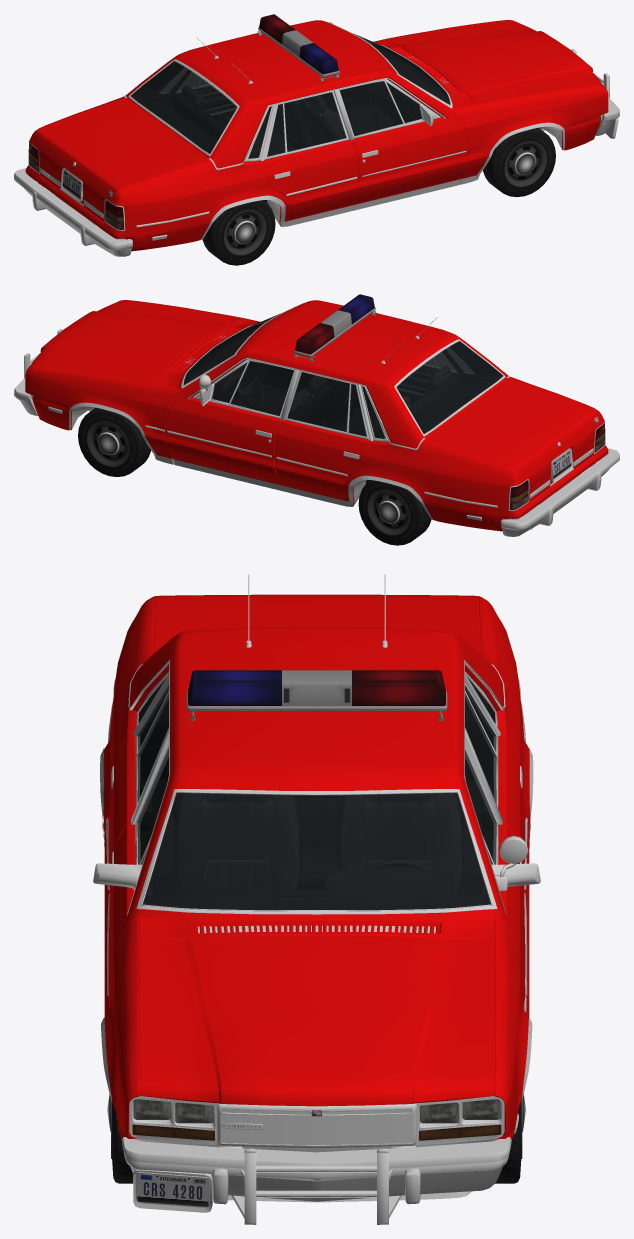
File: copcrsr_hp.fbx
3 renders of one model, top to bottom at view 1: azimuth 30°, elevation 25°; view 2: azimuth 150°, elevation 25°; view 3: azimuth 270°, elevation 25°, orthographic. The views are drawn at different scales.
Parts seen in each view (by area): view 1: Fairheaven_LT80_body, Fairheaven_LT80_interior, Fairheaven_LT80_trunk_door, Fairheaven_LT80_Hood, Fairheaven_LT80_Bottom, Fairheaven_LT80_Rear_Glass, Fairheaven_LT80_BodyGlass, Fairheaven_LT80_WheelStamp_FR, Fairheaven_LT80_WheelStamp_RR, Fairheaven_LT80_bumper_rear, Fairheaven_LT80_Glass_Passanger, Fairheaven_LT80_Grand_Trim (+6 smaller); view 2: Fairheaven_LT80_body, Fairheaven_LT80_interior, Fairheaven_LT80_trunk_door, Fairheaven_LT80_Hood, Fairheaven_LT80_Bottom, Fairheaven_LT80_Rear_Glass, Fairheaven_LT80_BodyGlass, Fairheaven_LT80_WheelStamp_FL, Fairheaven_LT80_WheelStamp_RL, Fairheaven_LT80_bumper_rear, Fairheaven_LT80_Glass_Driver, Fairheaven_LT80_Grand_Trim (+6 smaller); view 3: Fairheaven_LT80_body, Fairheaven_LT80_Hood, Fairheaven_LT80_interior, Fairheaven_LT80_Windshield, Fairheaven_LT80_Bottom, Fairheaven_LT80_Bumper_Front, Fairheaven_LT80_trunk_door, Fairheaven_LT80_Lightbar, Fairheaven_LT80_Headlights_Glass, Fairheaven_LT80_Bullbar, Fairheaven_LT80_BodyGlass, Fairheaven_LT80_Headlights (+8 smaller).
Part boxes in pixels (x1=…): Fairheaven_LT80_body: x1=25, y1=20, x2=608, y2=251; Fairheaven_LT80_interior: x1=131, y1=43, x2=449, y2=202; Fairheaven_LT80_trunk_door: x1=32, y1=98, x2=208, y2=221; Fairheaven_LT80_Hood: x1=386, y1=20, x2=603, y2=104; Fairheaven_LT80_Bottom: x1=28, y1=22, x2=561, y2=240; Fairheaven_LT80_Rear_Glass: x1=130, y1=61, x2=237, y2=153; Fairheaven_LT80_BodyGlass: x1=161, y1=68, x2=421, y2=158; Fairheaven_LT80_WheelStamp_FR: x1=483, y1=127, x2=555, y2=197; Fairheaven_LT80_WheelStamp_RR: x1=202, y1=200, x2=275, y2=265; Fairheaven_LT80_bumper_rear: x1=14, y1=168, x2=132, y2=256; Fairheaven_LT80_Glass_Passanger: x1=339, y1=81, x2=403, y2=136; Fairheaven_LT80_Grand_Trim: x1=201, y1=122, x2=564, y2=239; Fairheaven_LT80_body: x1=25, y1=300, x2=608, y2=531; Fairheaven_LT80_interior: x1=184, y1=323, x2=502, y2=483; Fairheaven_LT80_trunk_door: x1=425, y1=378, x2=601, y2=501; Fairheaven_LT80_Hood: x1=29, y1=300, x2=247, y2=384; Fairheaven_LT80_Bottom: x1=48, y1=302, x2=605, y2=529; Fairheaven_LT80_Rear_Glass: x1=396, y1=341, x2=503, y2=433; Fairheaven_LT80_BodyGlass: x1=212, y1=348, x2=472, y2=438; Fairheaven_LT80_WheelStamp_FL: x1=78, y1=407, x2=150, y2=476; Fairheaven_LT80_WheelStamp_RL: x1=358, y1=480, x2=431, y2=545; Fairheaven_LT80_bumper_rear: x1=501, y1=448, x2=619, y2=536; Fairheaven_LT80_Glass_Driver: x1=230, y1=361, x2=293, y2=416; Fairheaven_LT80_Grand_Trim: x1=69, y1=402, x2=432, y2=519; Fairheaven_LT80_body: x1=103, y1=596, x2=529, y2=1140; Fairheaven_LT80_Hood: x1=139, y1=936, x2=494, y2=1106; Fairheaven_LT80_interior: x1=139, y1=680, x2=494, y2=909; Fairheaven_LT80_Windshield: x1=142, y1=793, x2=491, y2=910; Fairheaven_LT80_Bottom: x1=93, y1=659, x2=540, y2=1202; Fairheaven_LT80_Bumper_Front: x1=121, y1=1137, x2=511, y2=1212; Fairheaven_LT80_trunk_door: x1=153, y1=594, x2=480, y2=653; Fairheaven_LT80_Lightbar: x1=186, y1=670, x2=447, y2=720; Fairheaven_LT80_Headlights_Glass: x1=132, y1=1099, x2=501, y2=1140; Fairheaven_LT80_Bullbar: x1=231, y1=1148, x2=401, y2=1224; Fairheaven_LT80_BodyGlass: x1=137, y1=677, x2=496, y2=864; Fairheaven_LT80_Headlights: x1=134, y1=1099, x2=499, y2=1122.
Bounding box in the file's own units: 5.05 × 1.57 × 1.83.
